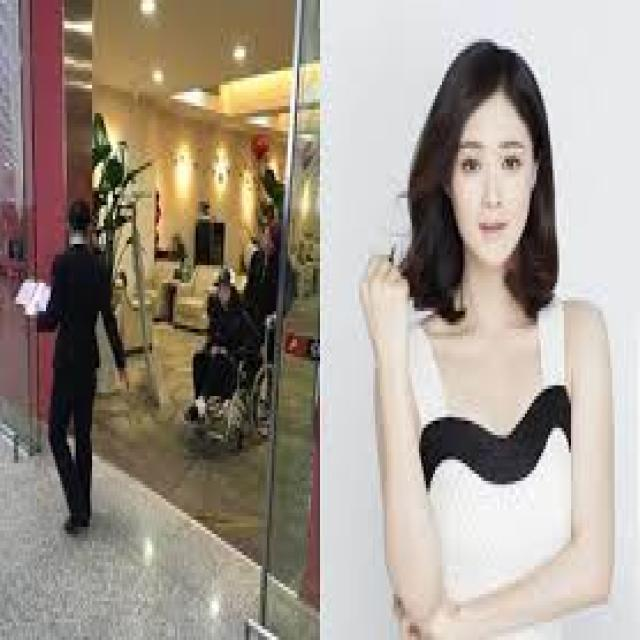wheelchairs: (179, 318, 281, 449)
